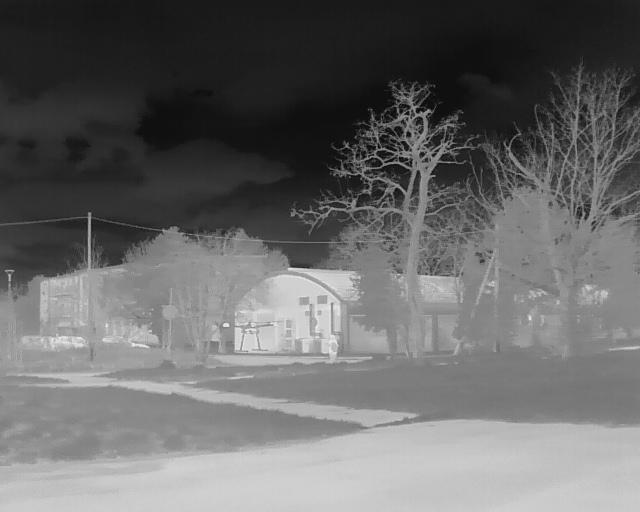drone: (213, 318, 291, 361)
